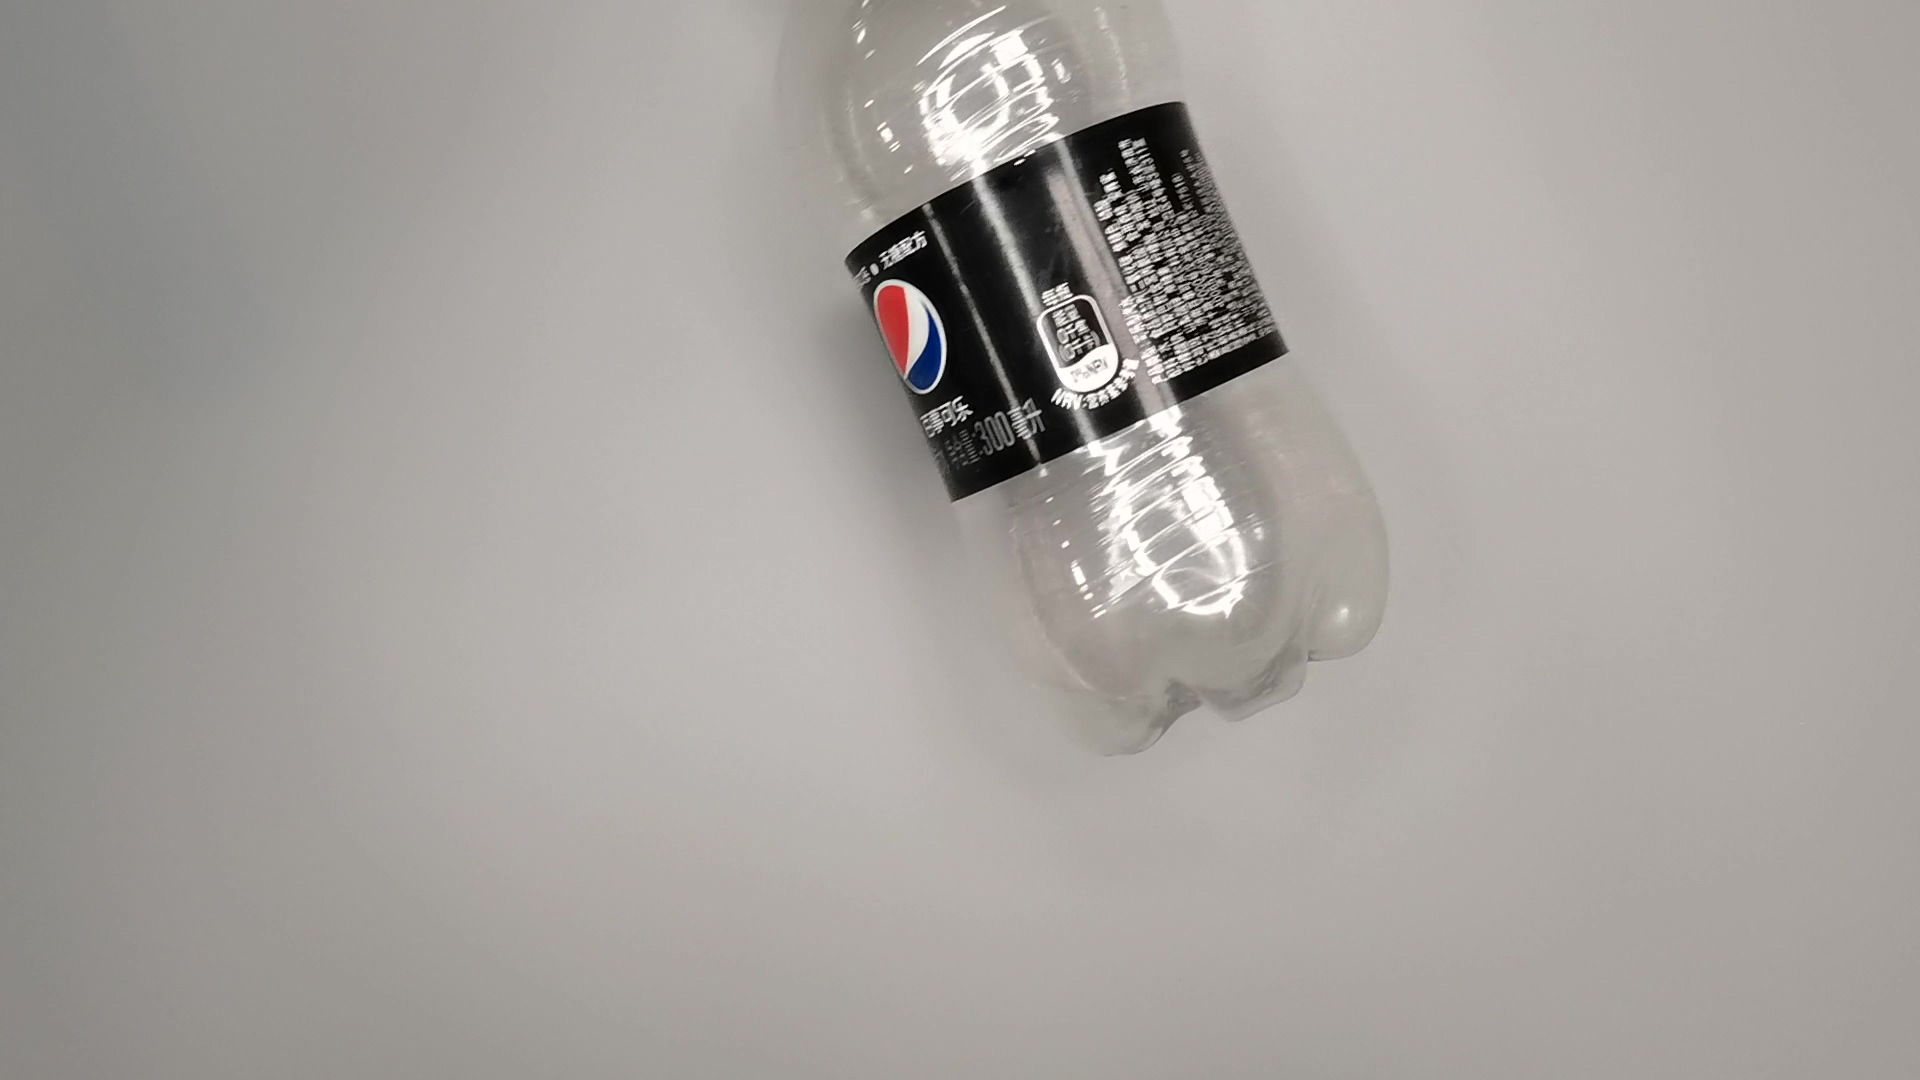bottle: (774, 1, 1395, 767)
